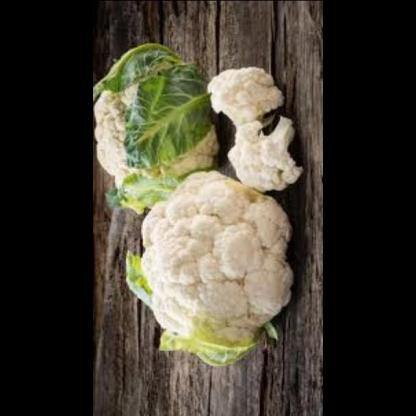cayliflower: (132, 167, 298, 360), (92, 85, 226, 204), (218, 111, 303, 193), (202, 63, 285, 129)
